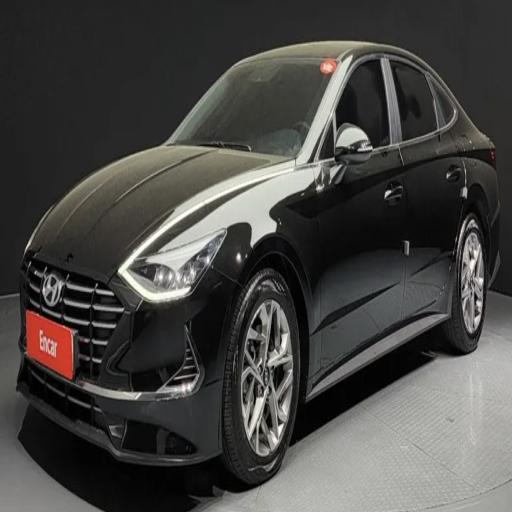normal: (10, 37, 495, 480)
scratch: (463, 32, 465, 34)
